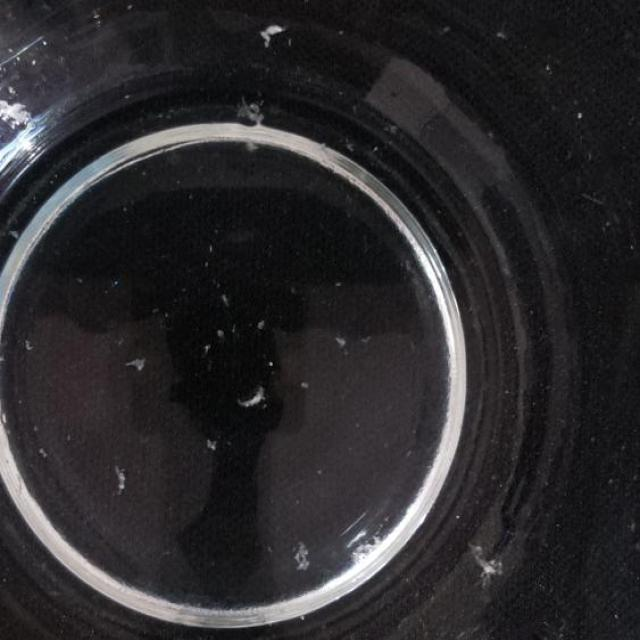fiber: (468, 534, 506, 594), (257, 20, 294, 52), (240, 95, 271, 128), (238, 380, 269, 412), (330, 332, 354, 356), (112, 466, 130, 496), (294, 542, 310, 570), (492, 23, 516, 41), (6, 223, 24, 245), (202, 431, 218, 455), (124, 356, 151, 370), (36, 441, 50, 465), (571, 104, 589, 122), (328, 277, 349, 292), (253, 314, 271, 331), (541, 59, 561, 74), (20, 336, 36, 354), (200, 336, 215, 354), (218, 290, 232, 303), (298, 376, 310, 391)
